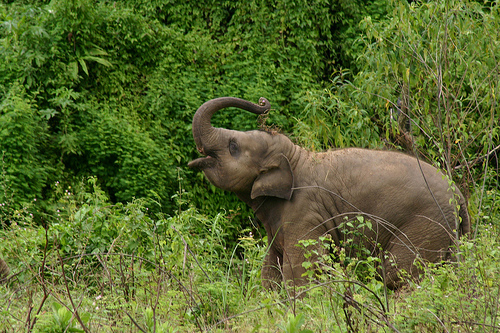elephant: (176, 91, 481, 308)
